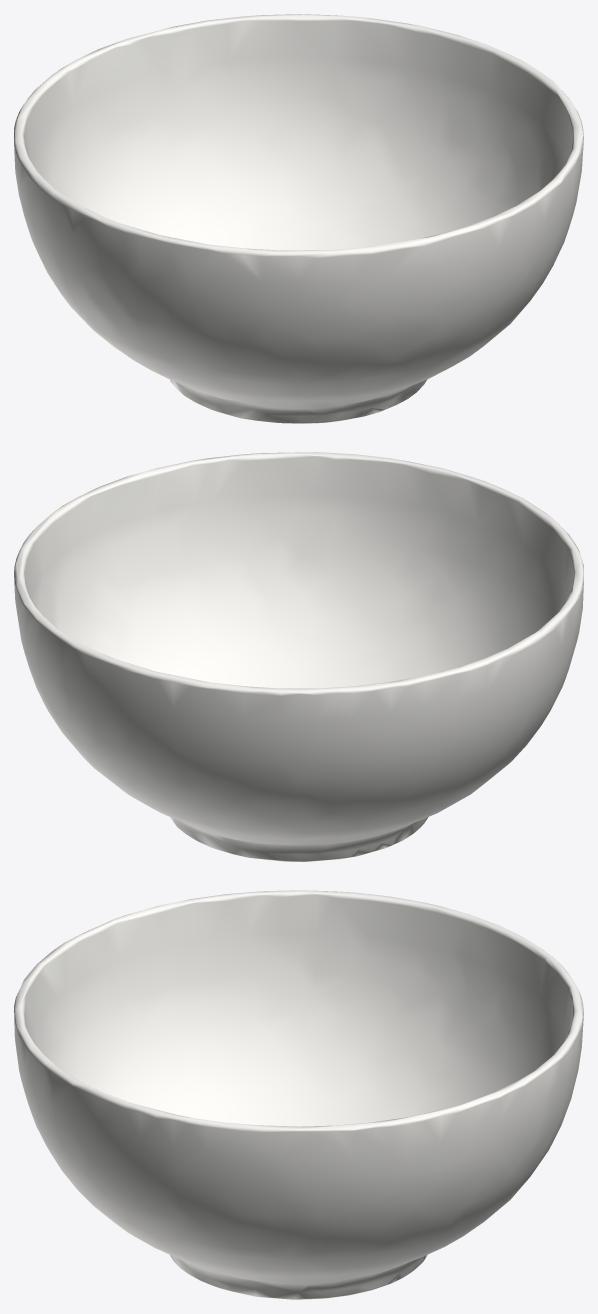
Rendered from ikea_365_miska_20278351.glb.
3 views of the same model, one above another, from view 1: azimuth 30°, elevation 25°; view 2: azimuth 150°, elevation 25°; view 3: azimuth 270°, elevation 25° (orthographic).
Parts seen in each view (by area): view 1: ikea_365_miska_20278351; view 2: ikea_365_miska_20278351; view 3: ikea_365_miska_20278351.
Part boxes in pixels (bbox=[...]): ikea_365_miska_20278351: bbox=[14, 14, 583, 423]; ikea_365_miska_20278351: bbox=[14, 452, 583, 861]; ikea_365_miska_20278351: bbox=[14, 890, 583, 1299].
Size of the model in its own units: 0.1597 by 0.073 by 0.1598.
1 material, 1 textured.
